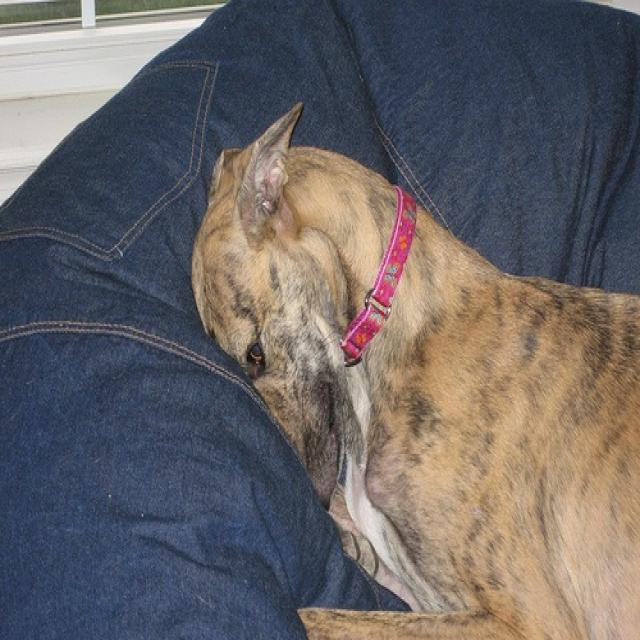dog: (191, 103, 638, 636)
